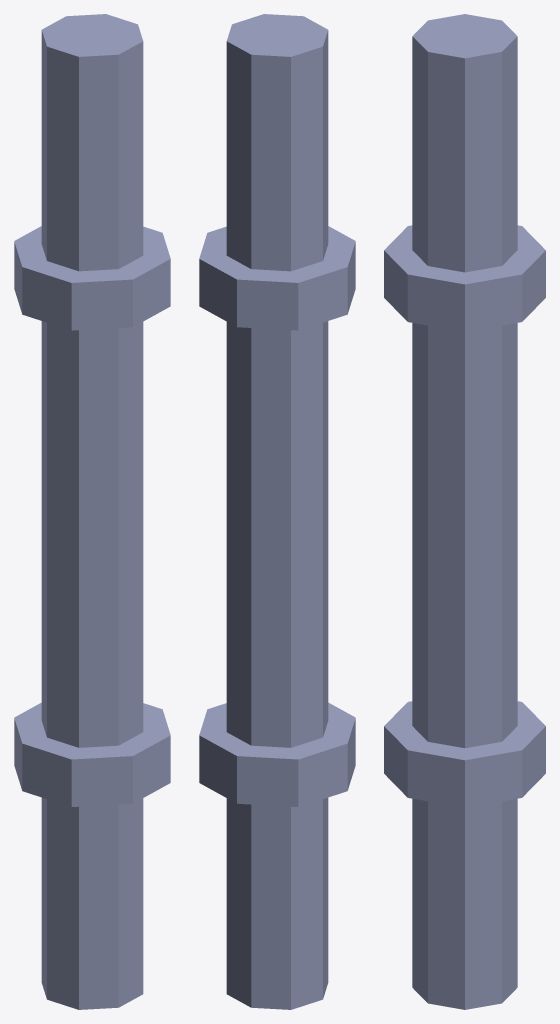
File: gutter-vertical.obj
The picture shows the model from 3 angles, left to right: view 1: azimuth 30°, elevation 25°; view 2: azimuth 150°, elevation 25°; view 3: azimuth 270°, elevation 25°; orthographic projection.
Size of the model in its own units: 0.3082 by 2 by 0.3082.
